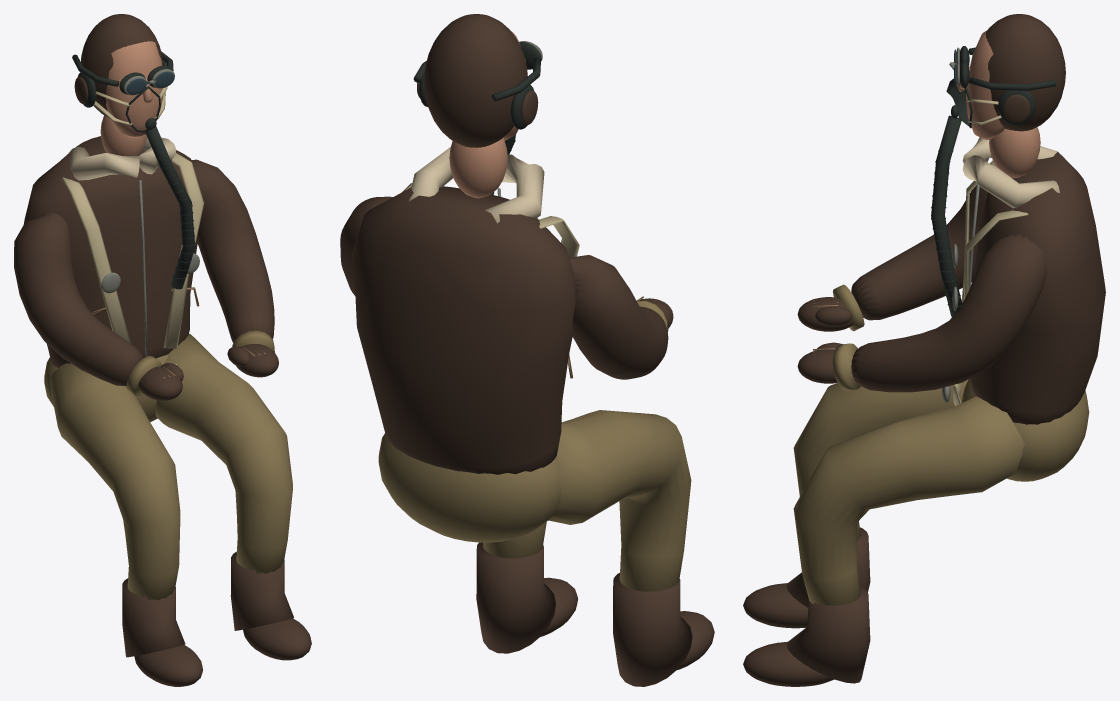
The model's file is seated-crew.glb.
3 views of the same model, side by side, from view 1: azimuth 30°, elevation 25°; view 2: azimuth 150°, elevation 25°; view 3: azimuth 270°, elevation 25° (orthographic). The views are drawn at different scales.
Visible parts, largest first — view 1: own_seated_crew; view 2: own_seated_crew; view 3: own_seated_crew.
Boxes of the visible parts, left/top/right/bottom form: own_seated_crew: left=14, top=14, right=311, bottom=686; own_seated_crew: left=340, top=14, right=714, bottom=686; own_seated_crew: left=743, top=14, right=1105, bottom=686.
Bounding box in the file's own units: 0.5962 × 1.42 × 0.7316.
